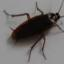cockroach: (10, 12, 60, 42)
